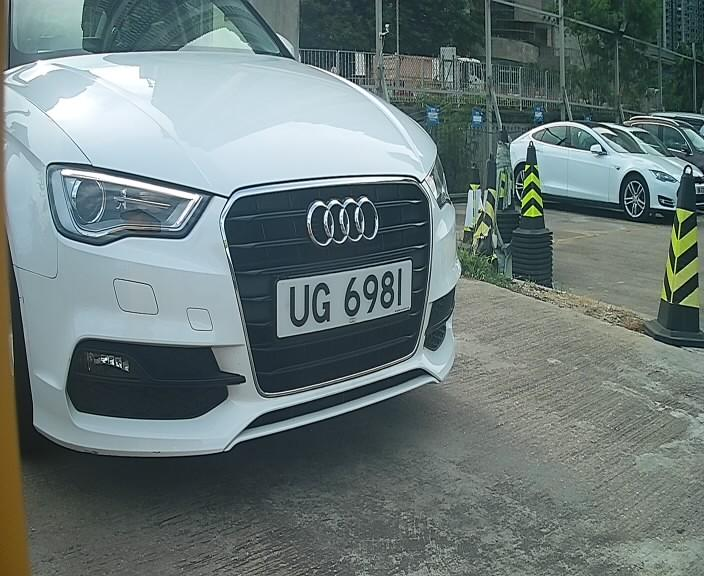License Plate: (268, 255, 412, 348)
